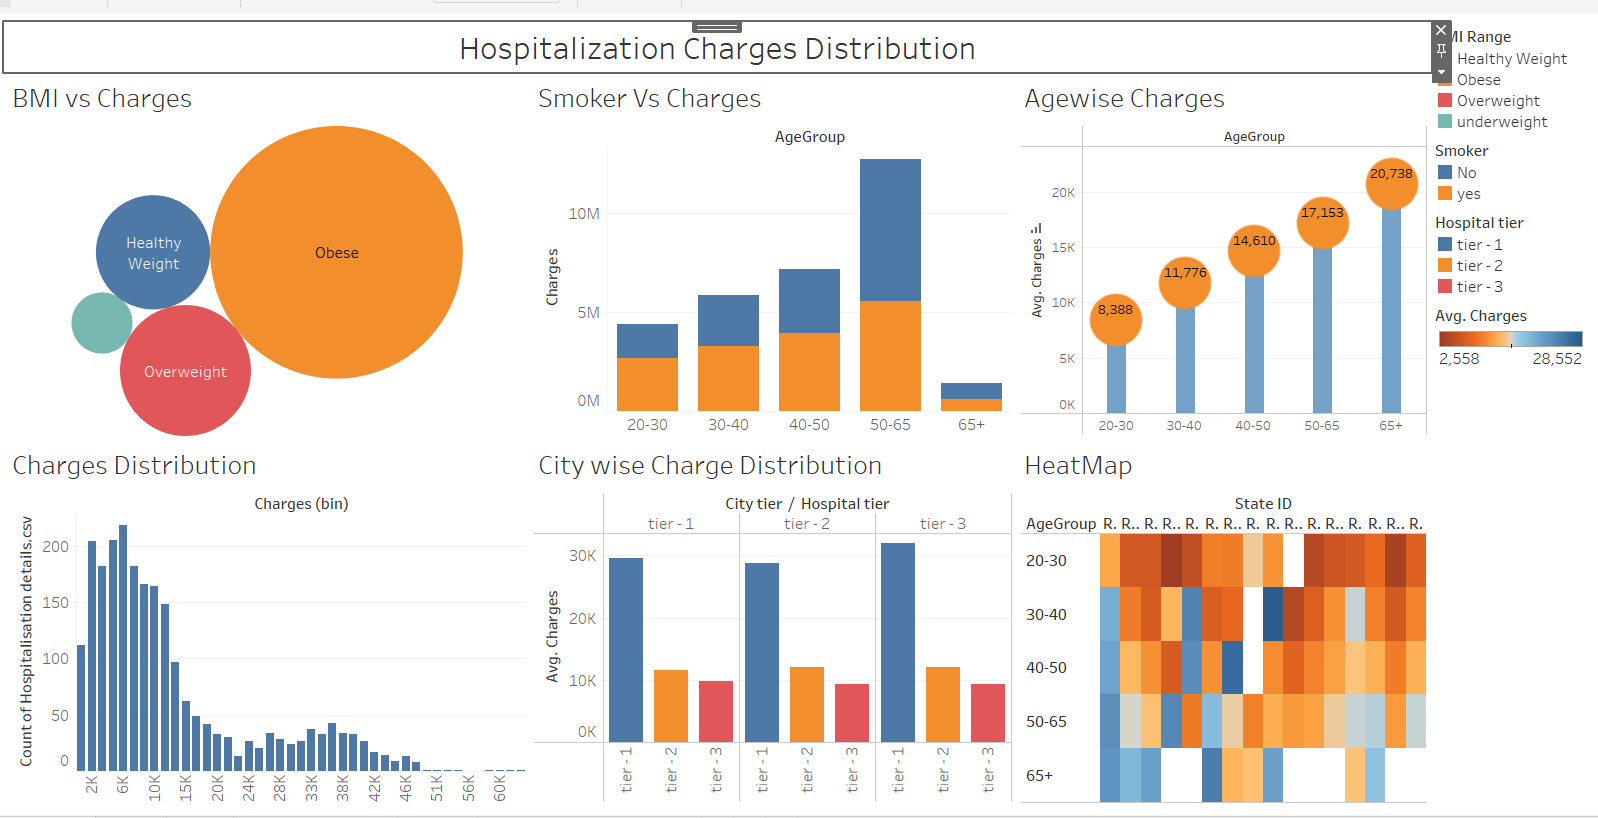

Layout of this report page (visuals, bound fields, positions):
{"tool":"tableau","page":{"name":"Dashboard 1","canvas":[1000,1000],"units":"permille","ordinal":0},"visuals":[{"type":"title","box":[5,10,890.2,62.4]},{"type":"legend","title":"BMI","param":"[federated.0a2undg1m0a0wf1cq64sa1od4hv1].[none:Calculation_2031123481785593858:n","box":[895.2,10,99.8,142.3]},{"type":"worksheet","title":"BMI","mark":"Circle","box":[5,72.4,328.1,458.8]},{"type":"worksheet","title":"Smoker","mark":"Automatic","rows":["charges"],"cols":["Calculation_2031123481781714945"],"box":[333.1,72.4,303.2,458.8]},{"type":"worksheet","title":"AgeChart","mark":"Bar","rows":["charges","charges"],"cols":["Calculation_2031123481781714945"],"box":[636.3,72.4,258.9,458.8]},{"type":"legend","title":"Smoker","param":"[federated.0a2undg1m0a0wf1cq64sa1od4hv1].[none:smoker:nk]","box":[895.2,152.3,99.8,89.9]},{"type":"legend","title":"City wise Charge Distribution","param":"[federated.0a2undg1m0a0wf1cq64sa1od4hv1].[none:Hospital tier:nk]","box":[895.2,242.2,99.8,116.1]},{"type":"legend","title":"HeatMap","param":"[federated.0a2undg1m0a0wf1cq64sa1od4hv1].[avg:charges:qk]","box":[895.2,358.3,99.8,91.1]},{"type":"worksheet","title":"Charges Distribution","mark":"Automatic","rows":["Hospitalisation details.csv_A621FCCB148A40A8A76E24053E26B49C"],"cols":["Charges (bin)"],"box":[5,531.2,328.1,458.8]},{"type":"worksheet","title":"City wise Charge Distribution","mark":"Automatic","rows":["charges"],"cols":["City tier","Hospital tier"],"box":[333.1,531.2,303.2,458.8]},{"type":"worksheet","title":"HeatMap","mark":"Automatic","rows":["Calculation_2031123481781714945"],"cols":["State ID"],"box":[636.3,531.2,258.9,458.8]}]}

Visuals, with their boxes on the dashboard's canvas, which has no fixed pixel size, in thousandths of its width and height (x1, y1, x2, y2). These are canvas units, not pixel positions in the 1598x818 screenshot, which may show the page scaled, cropped or inside an application window:
title: left=5, top=10, right=895, bottom=72
"BMI" legend: left=895, top=10, right=995, bottom=152
"BMI" worksheet (Circle marks): left=5, top=72, right=333, bottom=531
"Smoker" worksheet: left=333, top=72, right=636, bottom=531
"AgeChart" worksheet (Bar marks): left=636, top=72, right=895, bottom=531
"Smoker" legend: left=895, top=152, right=995, bottom=242
"City wise Charge Distribution" legend: left=895, top=242, right=995, bottom=358
"HeatMap" legend: left=895, top=358, right=995, bottom=449
"Charges Distribution" worksheet: left=5, top=531, right=333, bottom=990
"City wise Charge Distribution" worksheet: left=333, top=531, right=636, bottom=990
"HeatMap" worksheet: left=636, top=531, right=895, bottom=990
